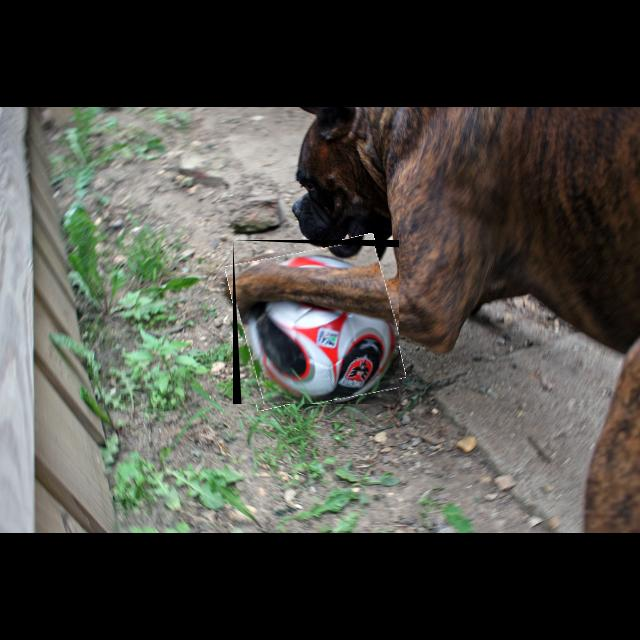Football: (233, 240, 399, 404)
